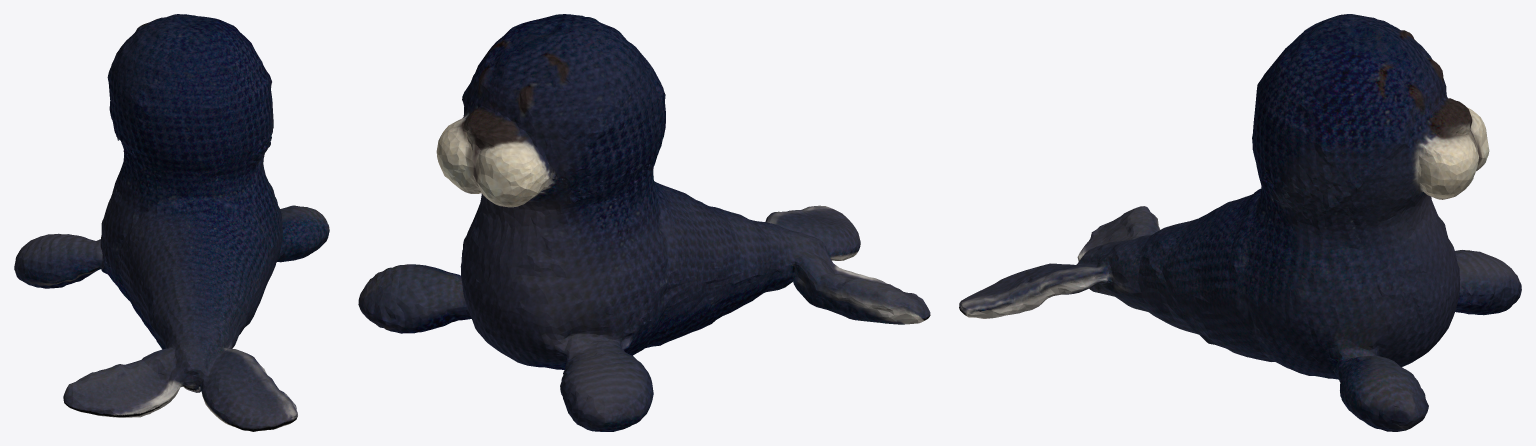
The model's file is 652529DC-20C2-A145-BCD8-600CD771BB43_2k.glb.
3 views of the same model, side by side, from view 1: azimuth 30°, elevation 25°; view 2: azimuth 150°, elevation 25°; view 3: azimuth 270°, elevation 25° (orthographic). The views are drawn at different scales.
Parts seen in each view (by area): view 1: Robbe Lars_22k_2k; view 2: Robbe Lars_22k_2k; view 3: Robbe Lars_22k_2k.
Part boxes in pixels (bbox=[...]): Robbe Lars_22k_2k: bbox=[14, 14, 329, 431]; Robbe Lars_22k_2k: bbox=[358, 14, 930, 431]; Robbe Lars_22k_2k: bbox=[959, 14, 1521, 431].
Size of the model in its own units: 0.2207 by 0.1633 by 0.2457.
Materials: 1 (1 with a texture image).
